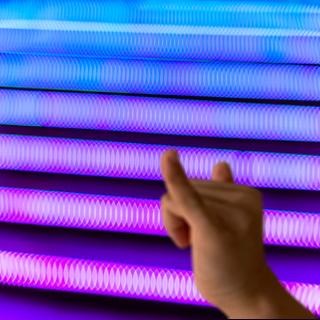HAVE: (142, 139, 280, 303)
